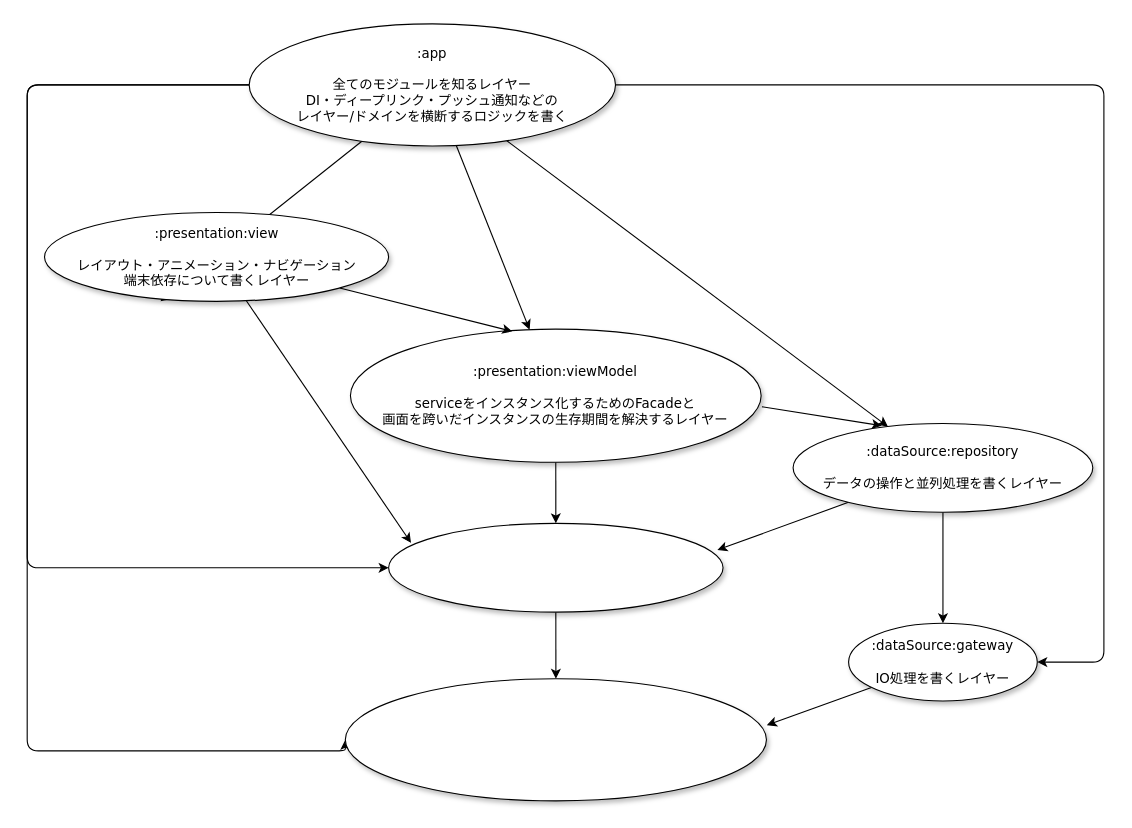
Some shapes in this 1132 by 828 pixel diagram are drawn without their labels. Here are the shapes that lost their labels. From the top down, the centre of each, then its label:
At point 556,569: ":domain:service ビジネスロジックを書くアプリのメインレイヤー".
At point 556,741: ":domain:entity データ型・Enumや 1種類の型のみで完結するシンプルなロジックを書くレイヤー".
